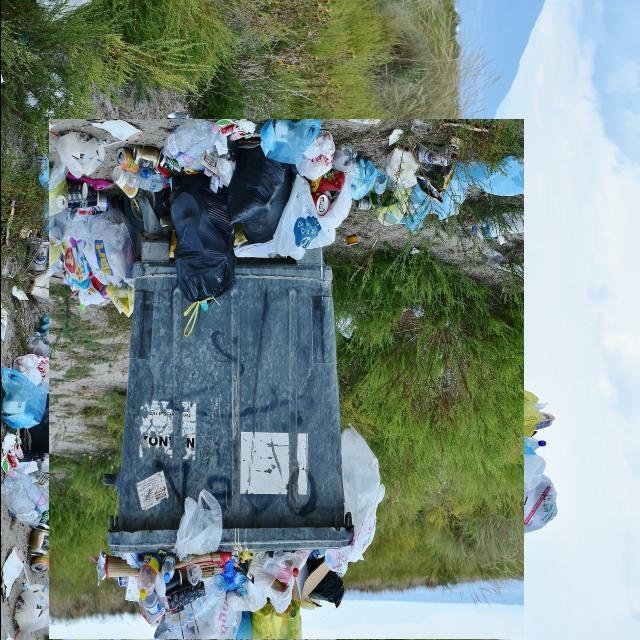garbage: (25, 141, 546, 640)
